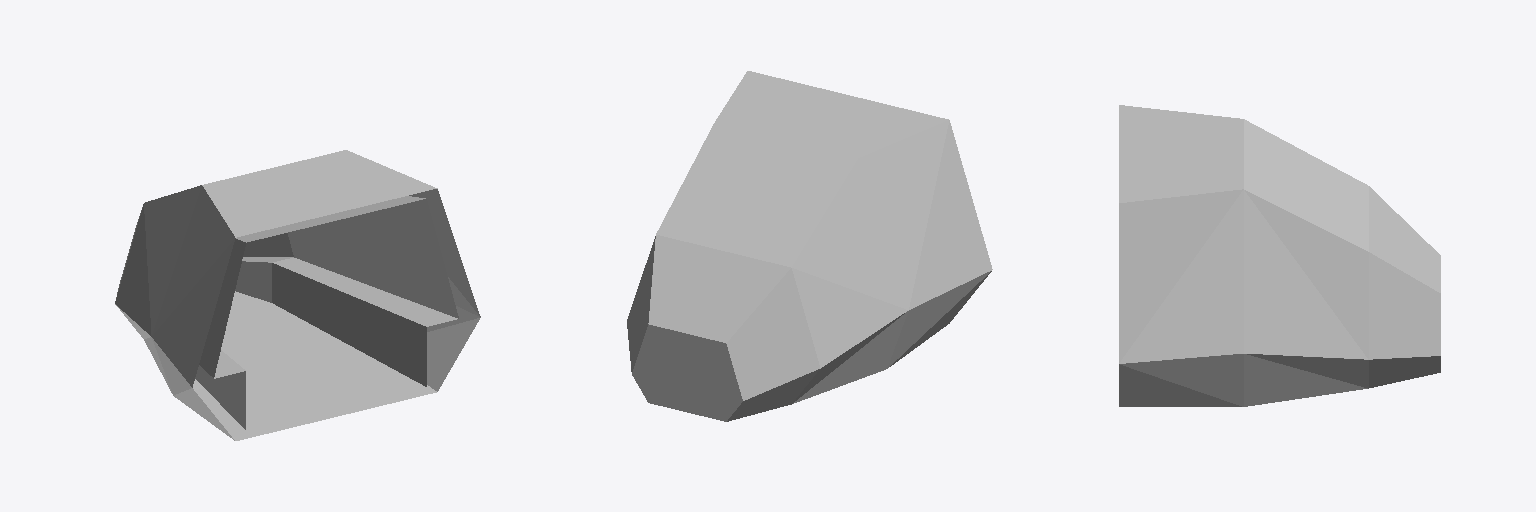
File: train_head.obj
The picture shows the model from 3 angles: view 1: azimuth 30°, elevation 25°; view 2: azimuth 150°, elevation 25°; view 3: azimuth 270°, elevation 25°; orthographic projection.
Visible parts, largest first — view 1: Cube; view 2: Cube; view 3: Cube.
Boxes of the visible parts, <box> form: Cube: <box>115,150,480,440</box>; Cube: <box>627,71,992,421</box>; Cube: <box>1119,105,1440,406</box>.
Bounding box in the file's own units: 4 × 2.7 × 3.87.